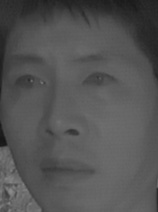eye: (15, 70, 47, 95), (82, 69, 118, 90)
mouth: (34, 152, 99, 190)
